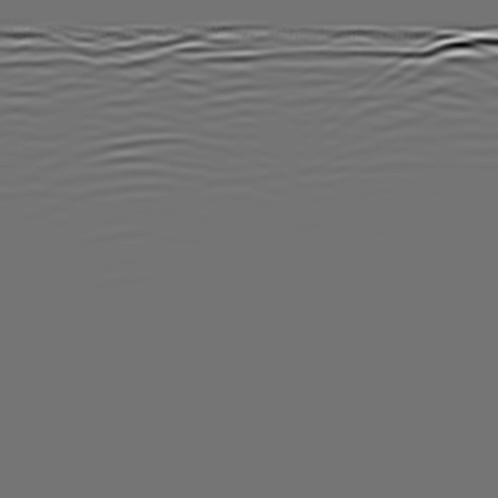hyperbola: (44, 126, 273, 210)
